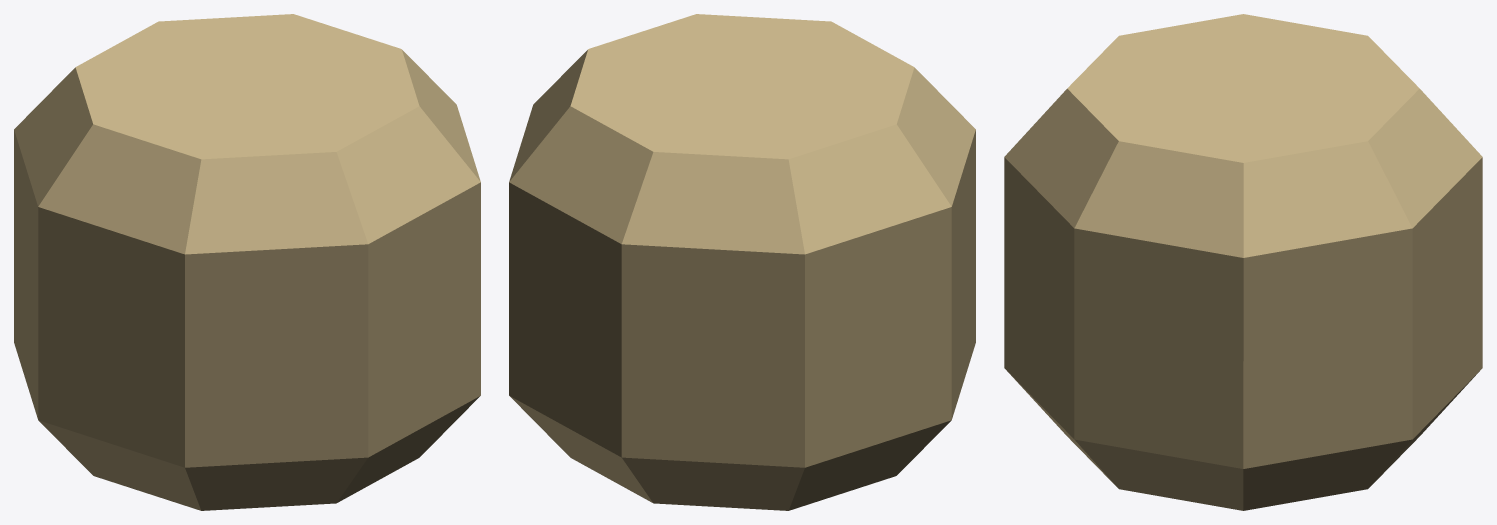
The model's file is caminho_luz.fbx.
3 renders of one model, left to right at view 1: azimuth 30°, elevation 25°; view 2: azimuth 150°, elevation 25°; view 3: azimuth 270°, elevation 25°, orthographic.
Visible parts, largest first — view 1: caminho_luz; view 2: caminho_luz; view 3: caminho_luz.
Boxes of the visible parts, x1,y1,x2,y2 form: caminho_luz: [14, 14, 480, 510]; caminho_luz: [509, 14, 975, 510]; caminho_luz: [1004, 14, 1482, 510].
Bounding box in the file's own units: 0.76 × 0.61 × 0.76.
